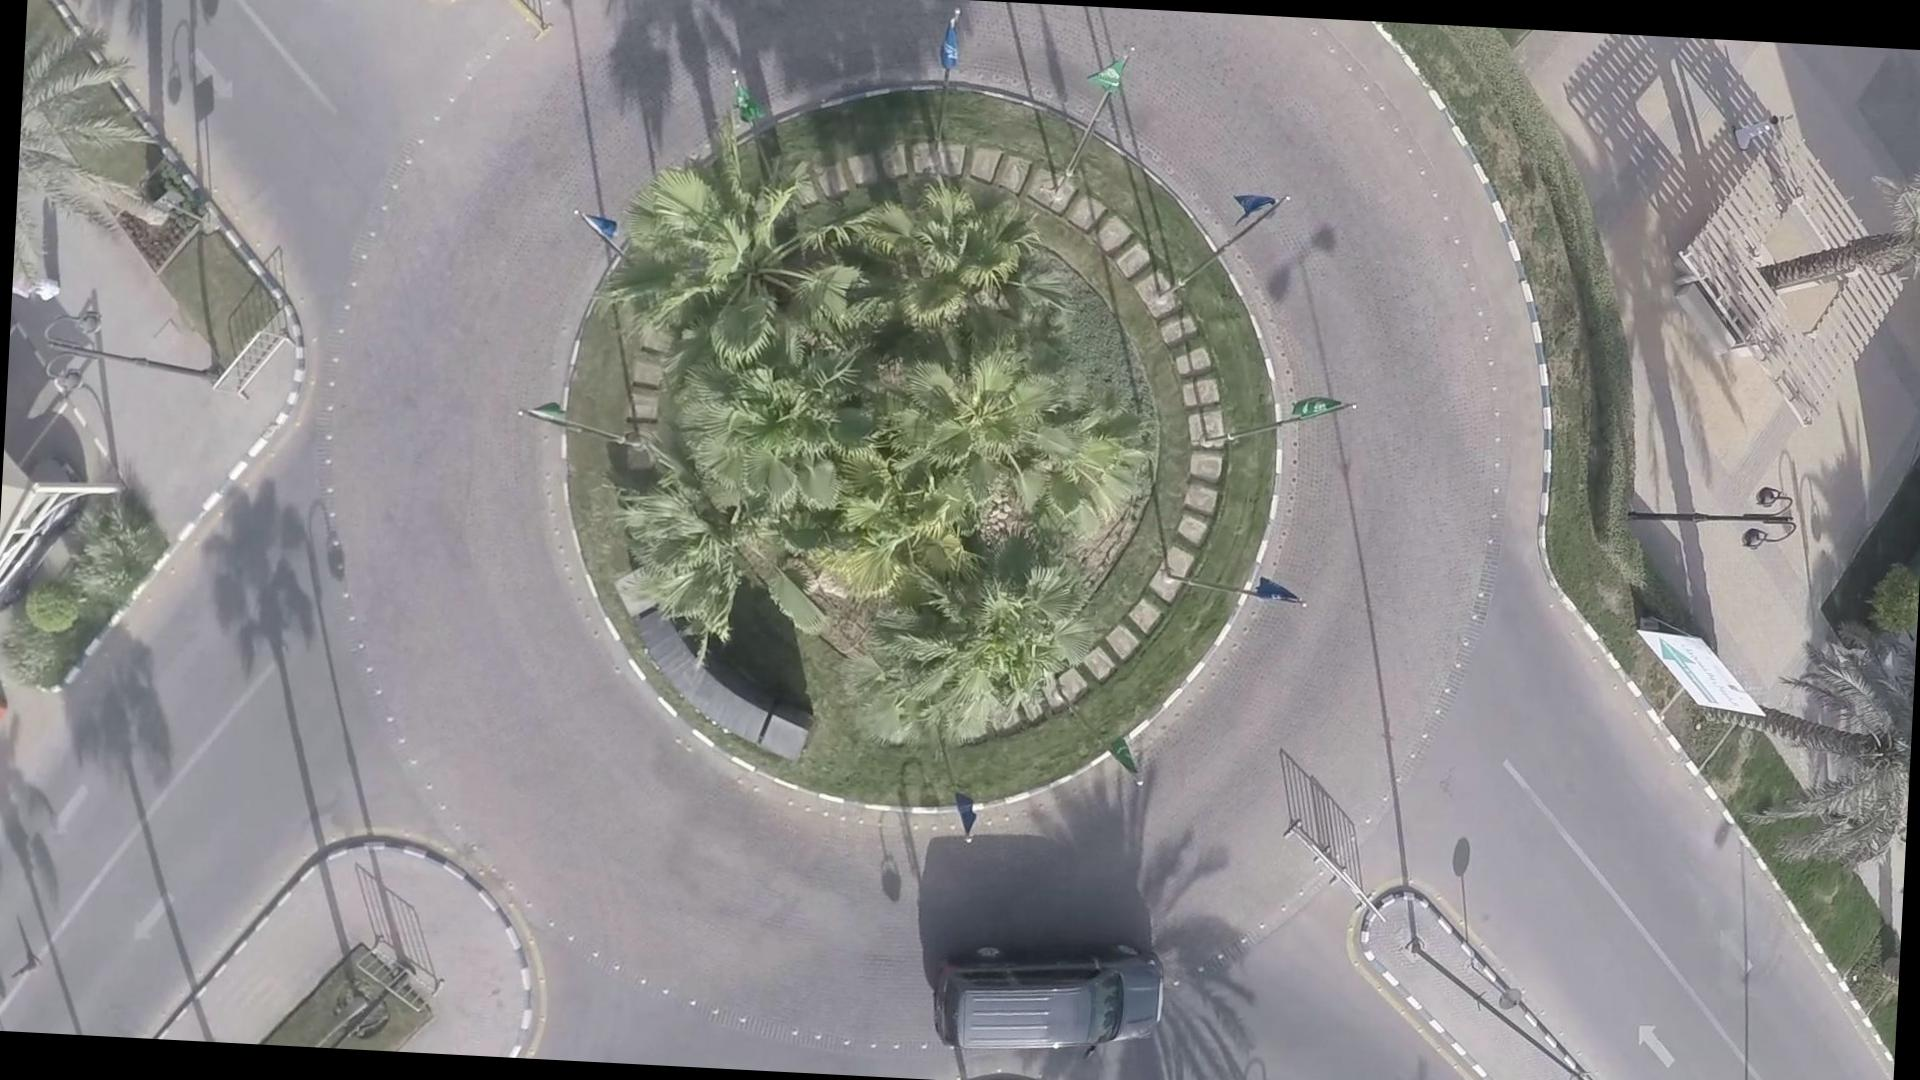vehicle: (912, 934, 1186, 1060)
